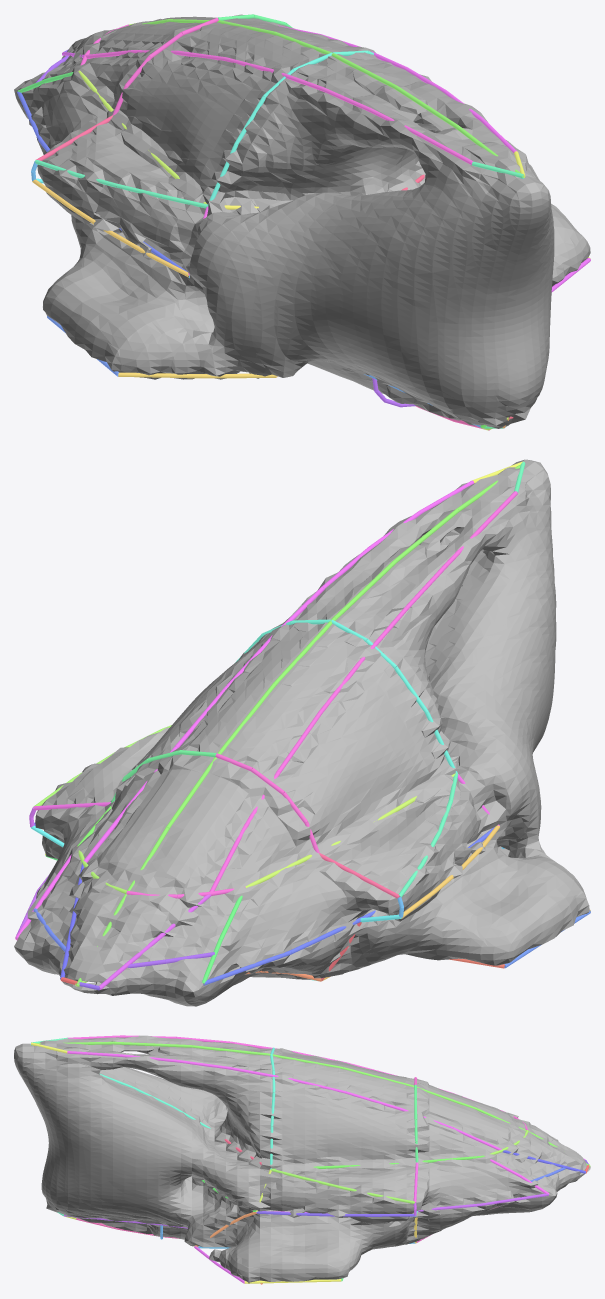
Rendered from ils_spacecraft_78.gltf.
3 views of the same model, one above another, from view 1: azimuth 30°, elevation 25°; view 2: azimuth 150°, elevation 25°; view 3: azimuth 270°, elevation 25° (orthographic). The views are drawn at different scales.
Size of the model in its own units: 0.5068 by 0.3206 by 0.8357.
